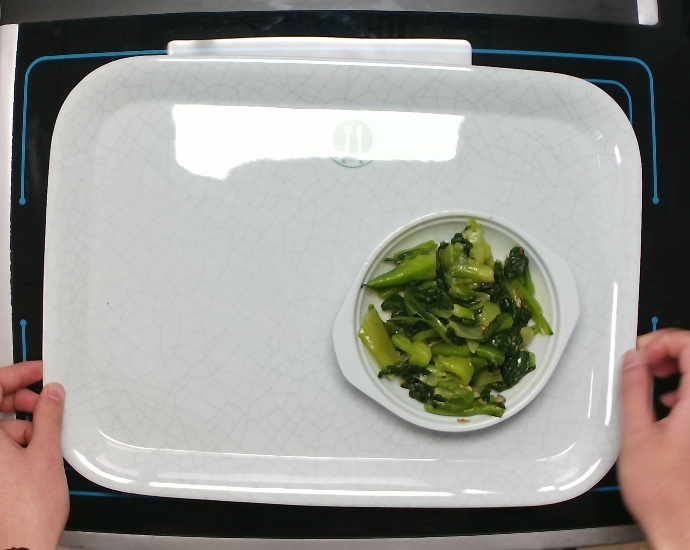JYsf-Shuang_Er_Pan: (326, 203, 588, 437)
